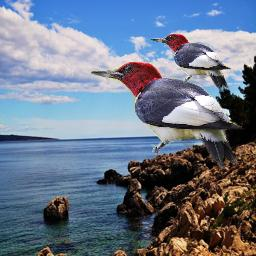Woodpecker: (91, 62, 242, 169), (151, 34, 231, 91)
